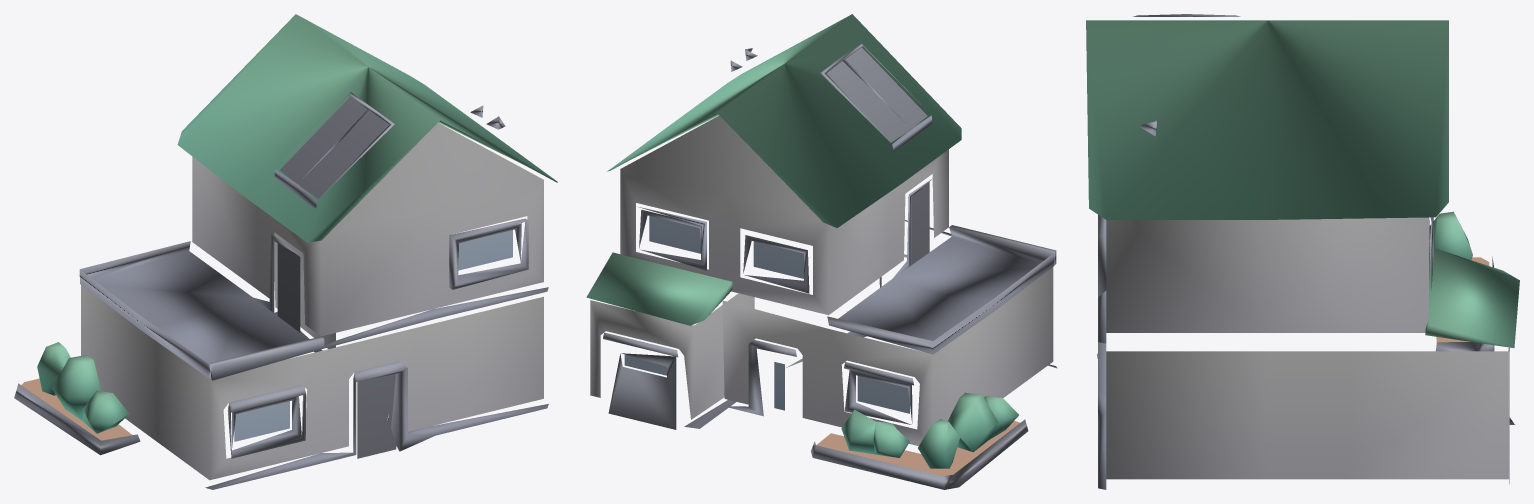
3 views of the same model, side by side, from view 1: azimuth 30°, elevation 25°; view 2: azimuth 150°, elevation 25°; view 3: azimuth 270°, elevation 25° (orthographic). The views are drawn at different scales.
Bounding box in the file's own units: 11.35 × 8.95 × 8.61.
